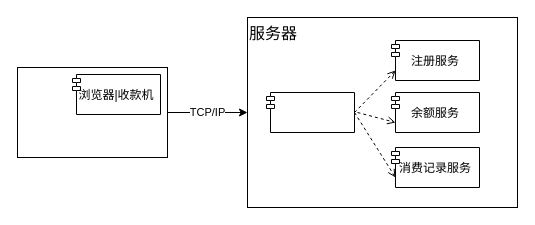
The diagram is 535 pixels wide and 225 high, and some of its shapes have lost their labels. The shapes that lost their labels are listed below. From the top down, each one's centre as x and y in pixels, then its label:
point 92,112: 客户端
point 310,112: 转发服务
